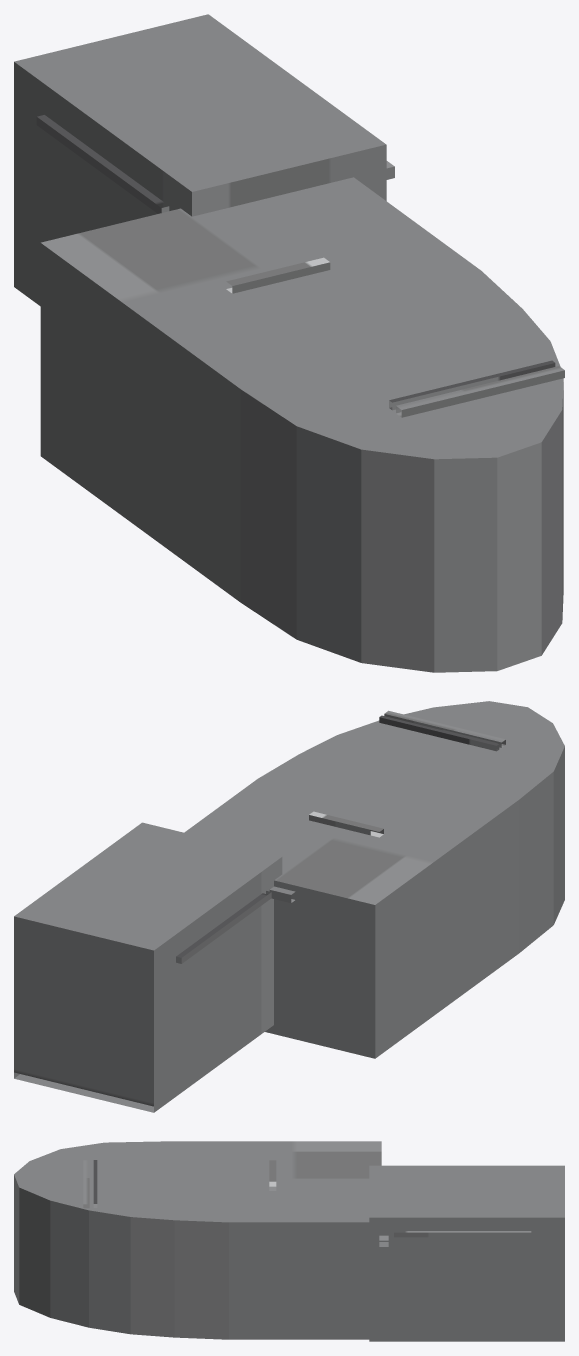
3 renders of one model, top to bottom at view 1: azimuth 30°, elevation 25°; view 2: azimuth 150°, elevation 25°; view 3: azimuth 270°, elevation 25°, orthographic. The views are drawn at different scales.
Bounding box in the file's own units: 0.8635 × 0.5579 × 2.13.
